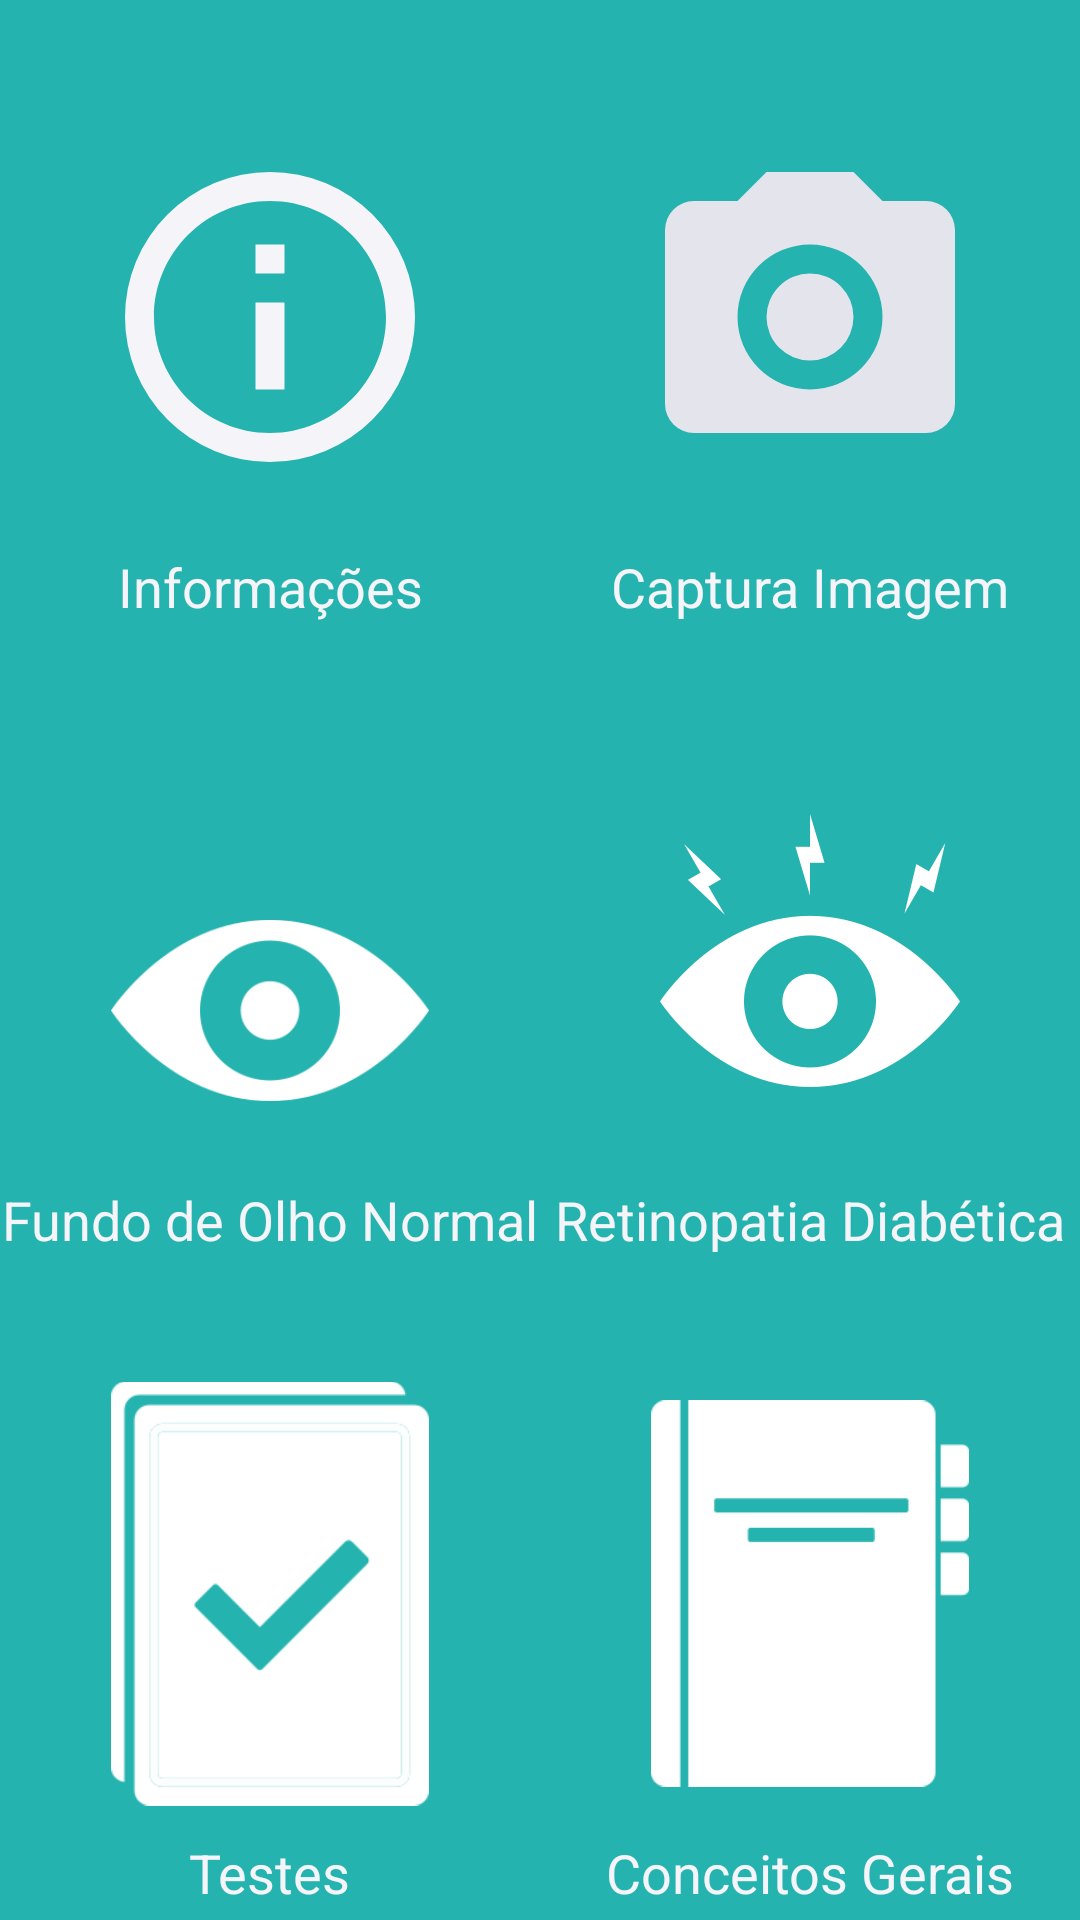

Icon click points for this 1080×1920 phone screenshot, format [x,y]:
camera: [810,302]
olho doente: [810,950]
